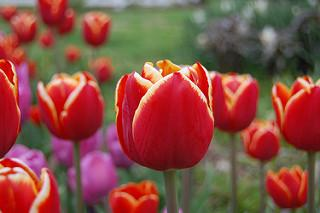tulip: (116, 65, 214, 168), (38, 71, 103, 140), (273, 80, 320, 151), (0, 157, 59, 213), (207, 71, 258, 131), (0, 58, 25, 165), (267, 167, 309, 207), (110, 180, 158, 213), (240, 122, 279, 159), (82, 11, 111, 46), (12, 10, 37, 42)
